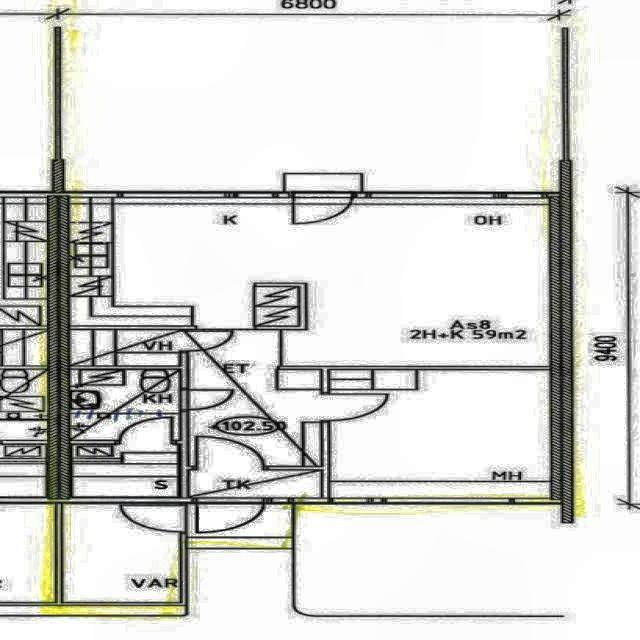room: (112, 197, 550, 366), (330, 370, 551, 497), (71, 370, 180, 440), (72, 444, 182, 497), (70, 329, 179, 366), (188, 469, 322, 499)
